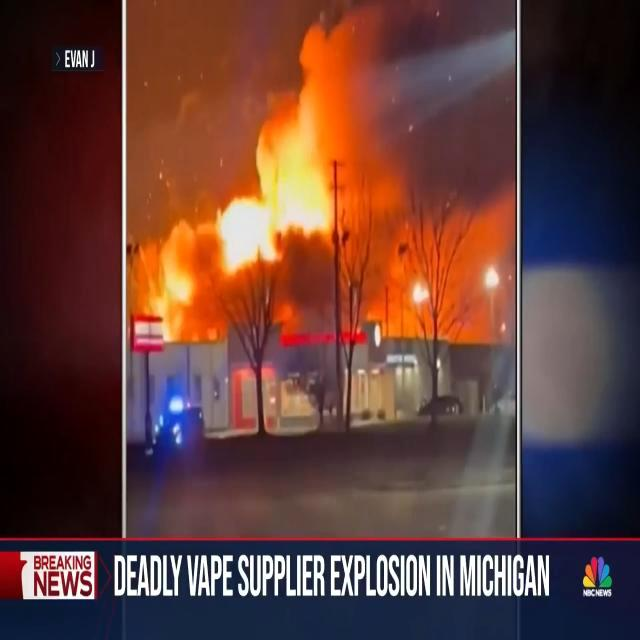fire: (164, 6, 463, 322)
